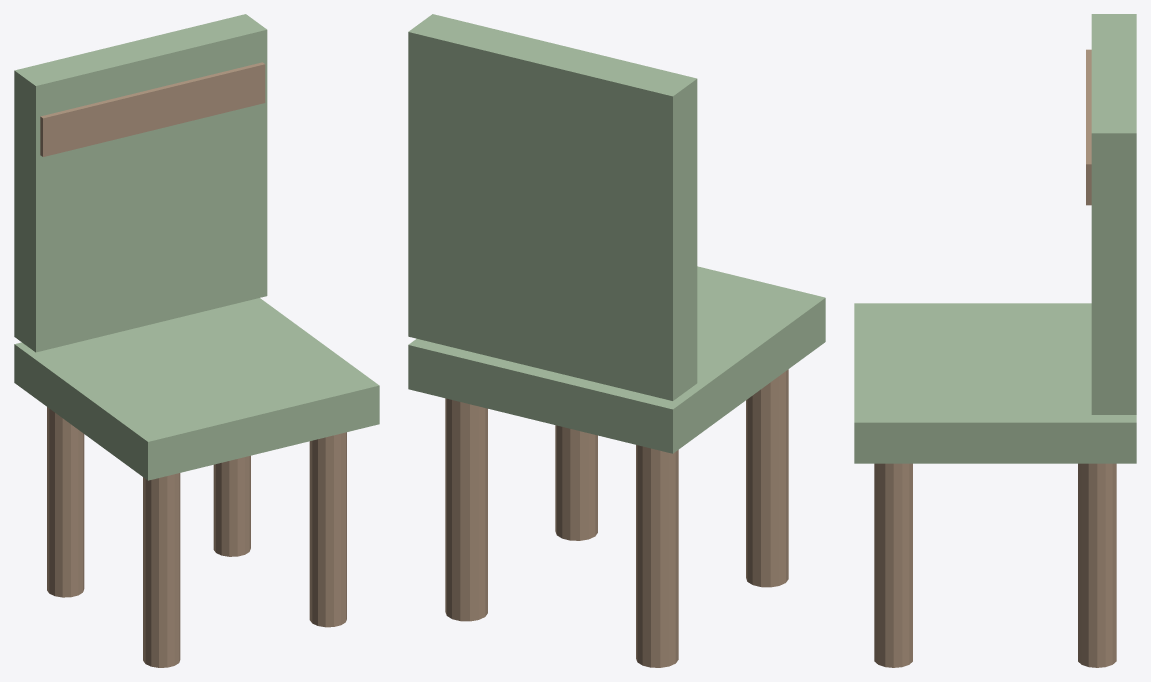
The model's file is dining_chair.glb.
The picture shows the model from 3 angles, left to right: view 1: azimuth 30°, elevation 25°; view 2: azimuth 150°, elevation 25°; view 3: azimuth 270°, elevation 25°; orthographic projection. The views are drawn at different scales.
Visible parts, largest first — view 1: p001, p000, p006, p002, p003, p004, p005; view 2: p001, p000, p004, p005, p002, p003; view 3: p000, p001, p003, p005, p006.
Part boxes in pixels (box(x1,y1,x2,y2)): p001: box(14, 14, 267, 352); p000: box(14, 298, 379, 480); p006: box(40, 62, 265, 156); p002: box(143, 473, 180, 667); p003: box(309, 432, 346, 627); p004: box(47, 407, 84, 597); p005: box(213, 455, 250, 556); p001: box(408, 14, 697, 400); p000: box(408, 266, 825, 453); p004: box(636, 445, 678, 667); p005: box(445, 398, 487, 621); p002: box(746, 369, 788, 587); p003: box(555, 425, 597, 540); p000: box(854, 303, 1136, 463); p001: box(1091, 14, 1136, 414); p003: box(874, 463, 912, 667); p005: box(1078, 463, 1116, 667); p006: box(1086, 49, 1091, 205).
Bounding box in the file's own units: 0.5 × 1.06 × 0.5.
